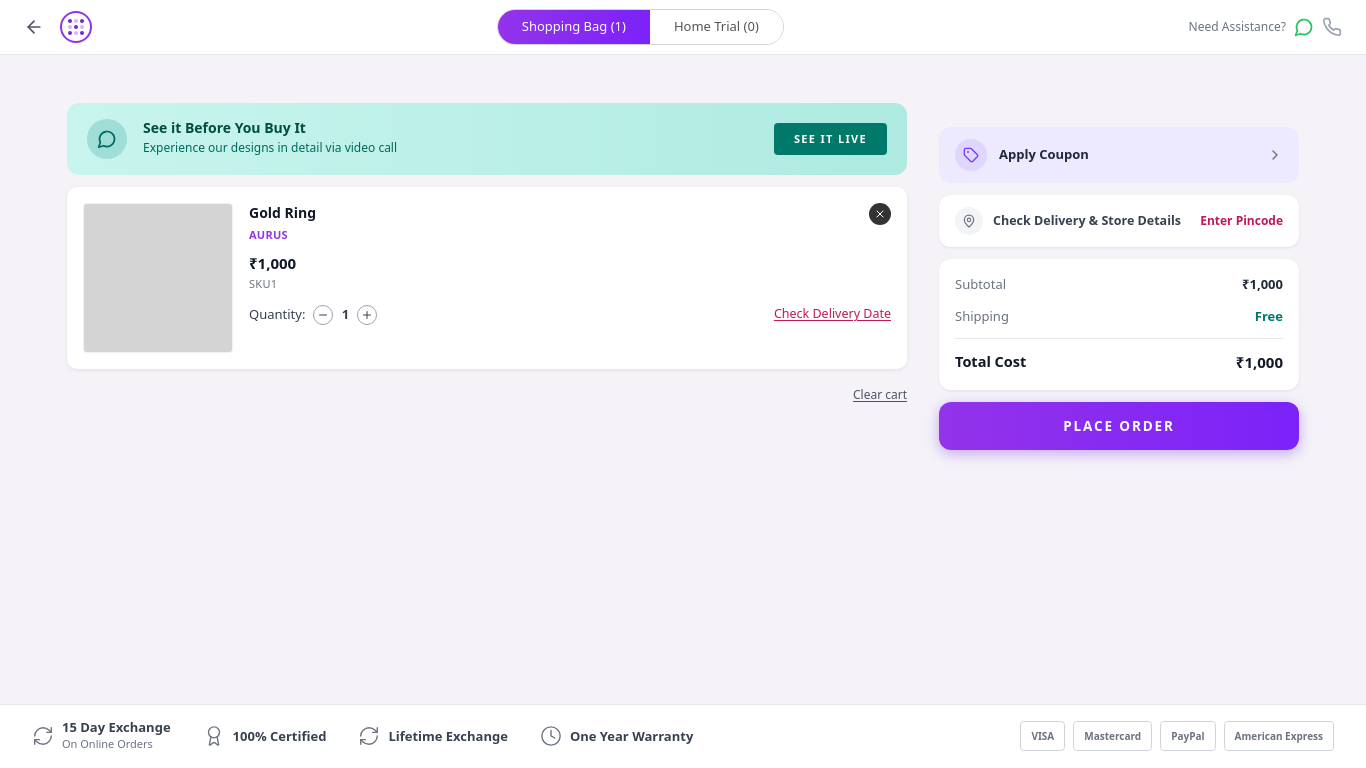
it: AurusCart — optional account prompt before checkout › "Sign In / Create Account" goes to the existing login page
Click the link "PLACE ORDER".
click(1119, 426)  # box [939,402,1299,450]
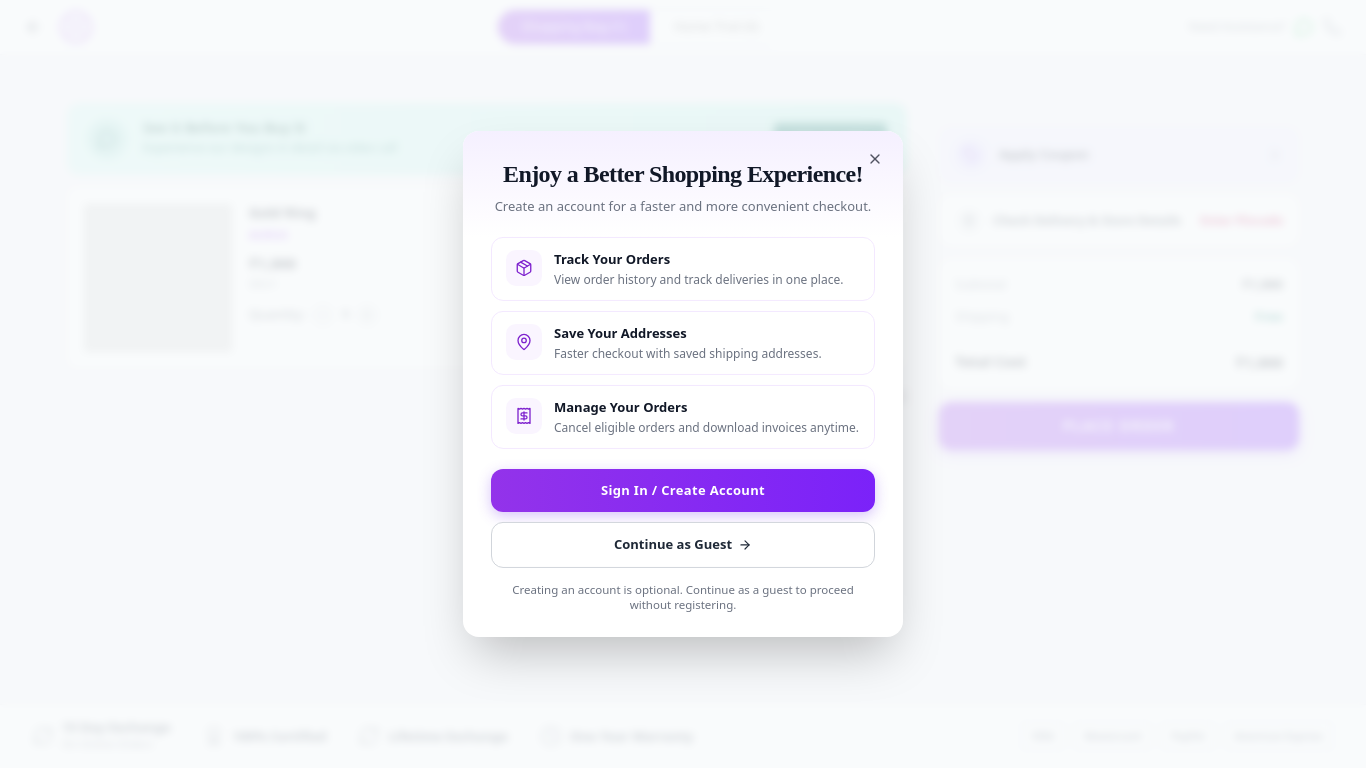
Click the link "Sign In / Create Account".
click(683, 490)  # box [491,468,875,512]
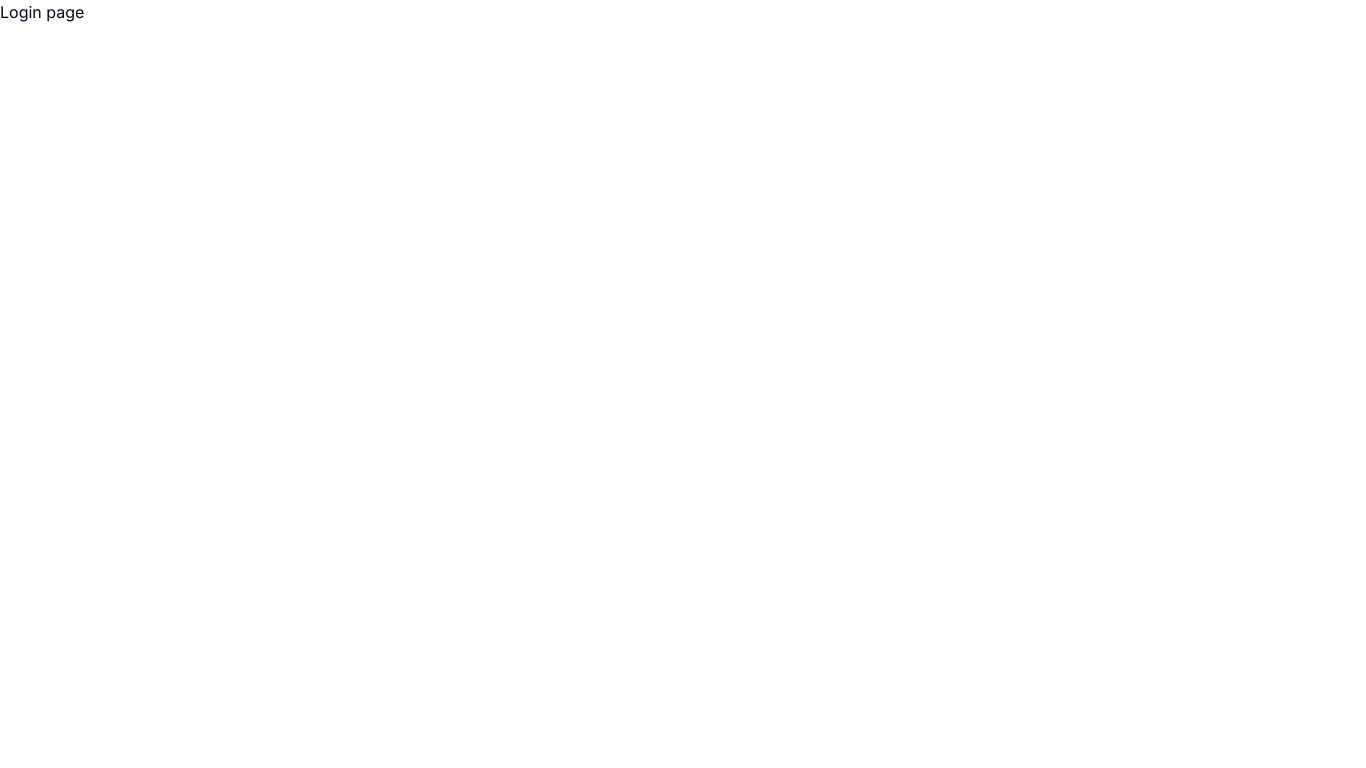
Check: the text "Login page" is shown, box [0,2,84,22]
